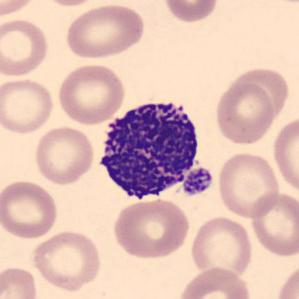Basophil: (90, 90, 212, 207)
Platelets: (180, 166, 215, 198)
RBC: (110, 197, 192, 260), (63, 2, 147, 61), (29, 228, 103, 292), (215, 150, 282, 219), (55, 62, 127, 126), (214, 78, 278, 147), (188, 214, 254, 278), (32, 124, 96, 186), (0, 178, 60, 240), (248, 188, 298, 258), (0, 77, 57, 136), (0, 17, 50, 77), (236, 68, 288, 125), (177, 265, 253, 299), (270, 113, 299, 196), (160, 0, 221, 24), (0, 264, 40, 299), (274, 261, 298, 299), (0, 0, 40, 20), (36, 0, 103, 7), (260, 0, 299, 6)
